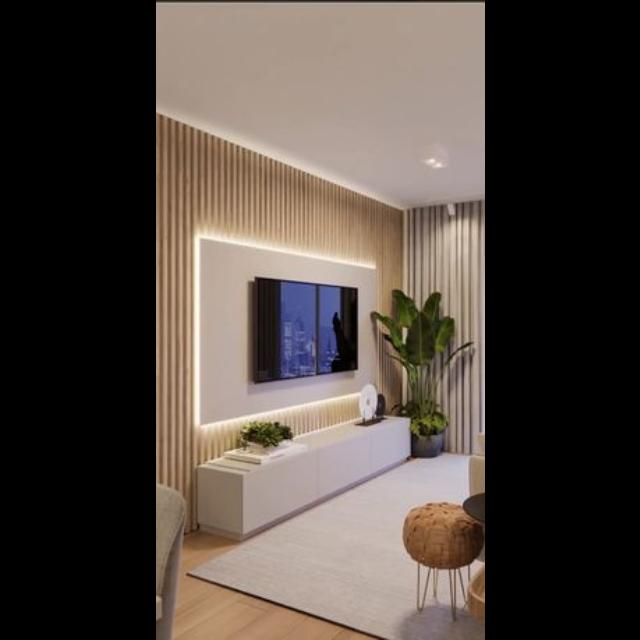Flat-Panel-TV: (230, 258, 380, 384)
